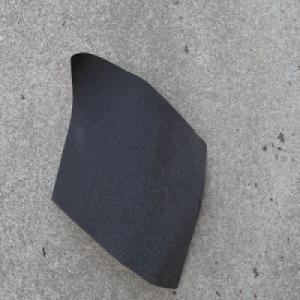PaintChip: (50, 52, 207, 291)
